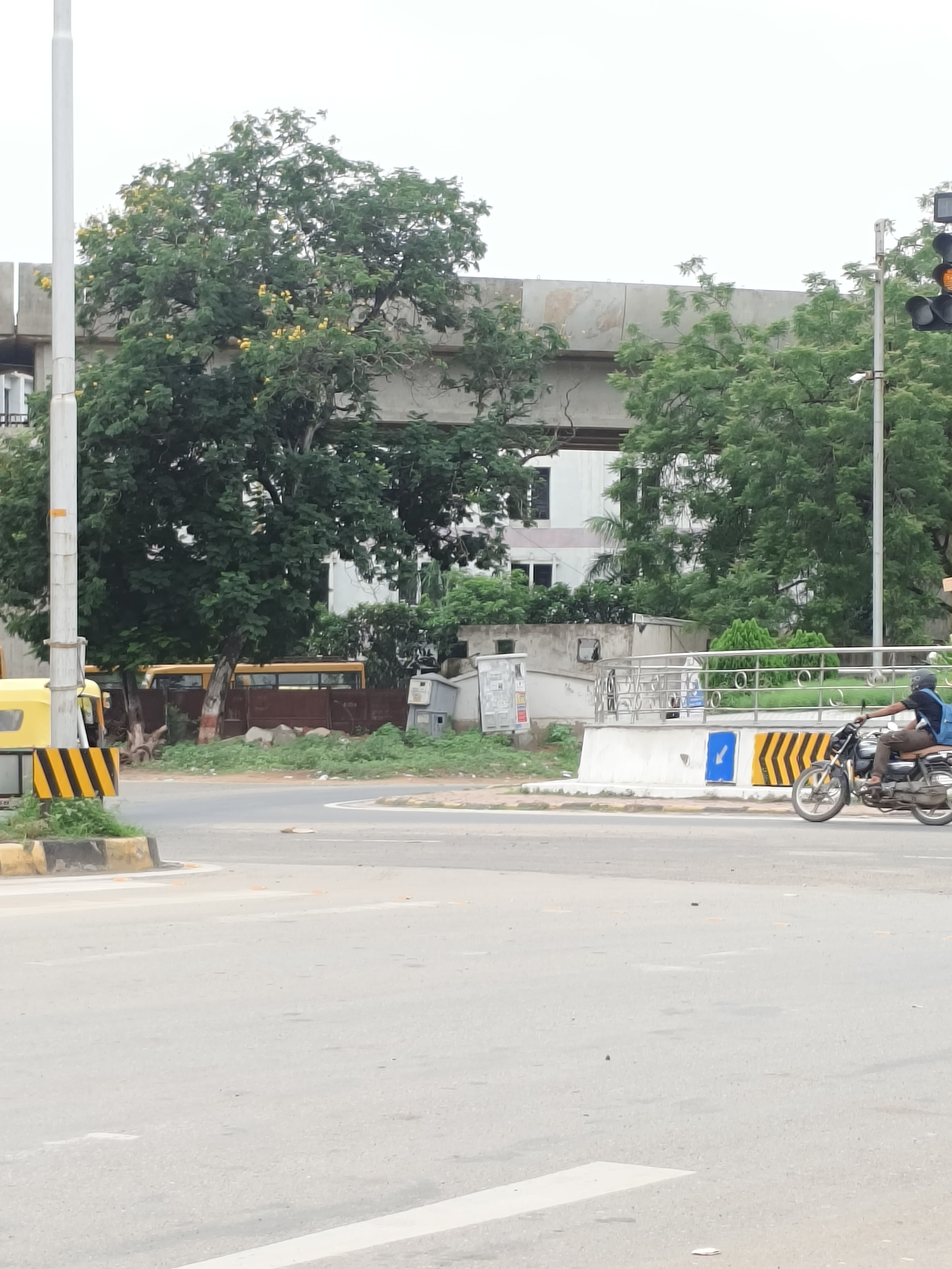BikeWithRider: (747, 633, 952, 851)
Helmet: (901, 658, 943, 702)
